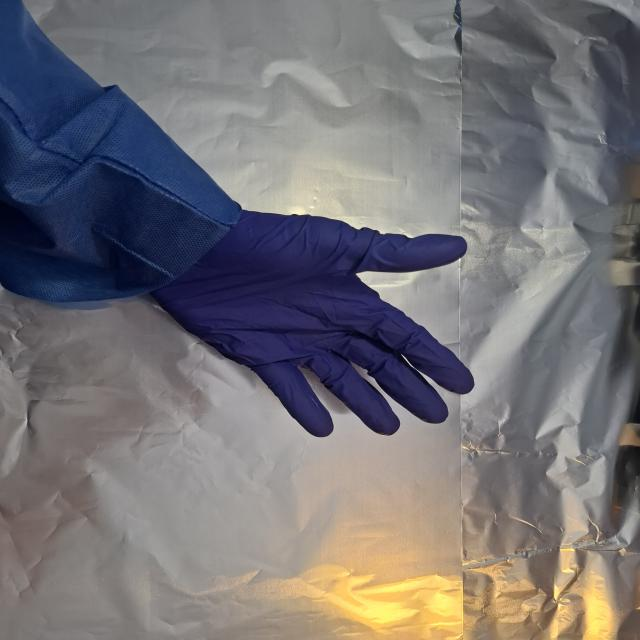glove_on: (147, 205, 480, 440)
